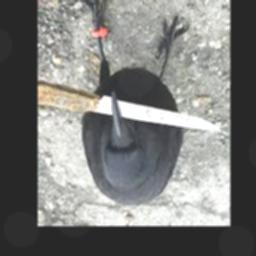Crow: (78, 0, 190, 206)
